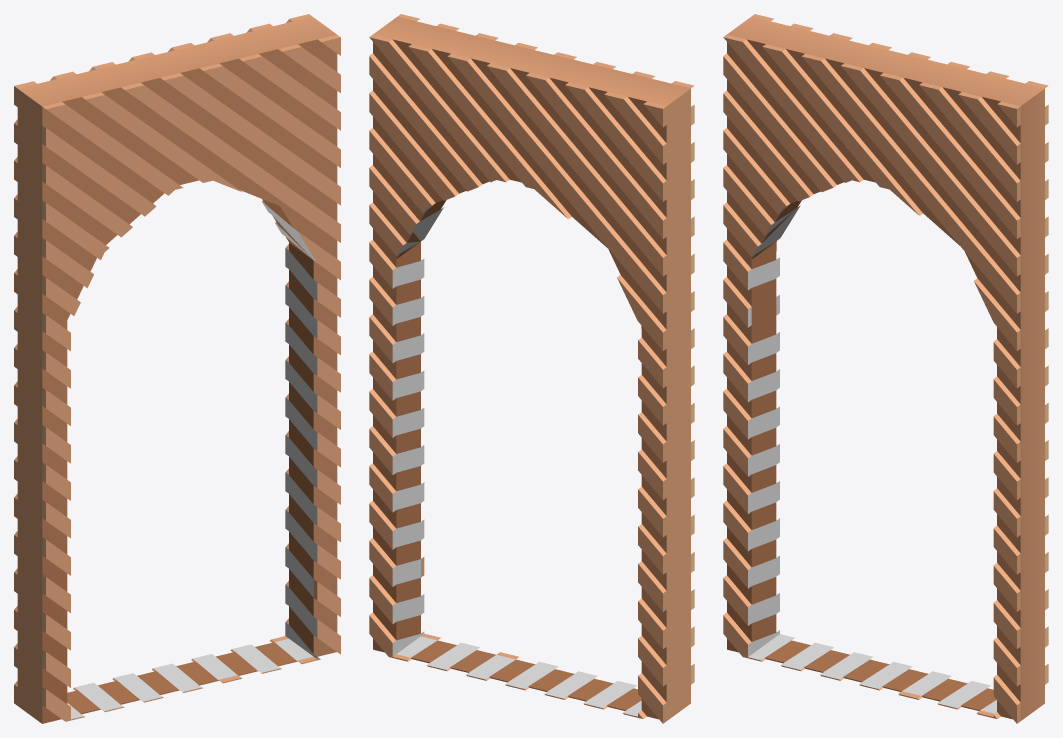
The model's file is DiagonalBoardDoorframe.glb.
The picture shows the model from 3 angles, left to right: view 1: azimuth 30°, elevation 25°; view 2: azimuth 150°, elevation 25°; view 3: azimuth 330°, elevation 25°; orthographic projection.
Visible parts, largest first — view 1: wall_diagonalBoard_door; view 2: wall_diagonalBoard_door; view 3: wall_diagonalBoard_door.
Part boxes in pixels (left/top/right/bottom): wall_diagonalBoard_door: left=14, top=14, right=340, bottom=723; wall_diagonalBoard_door: left=369, top=14, right=694, bottom=723; wall_diagonalBoard_door: left=723, top=14, right=1048, bottom=723.
Size of what is drawn, in the model's own units: 2 by 4 by 0.3745.
1 material, 1 textured.
